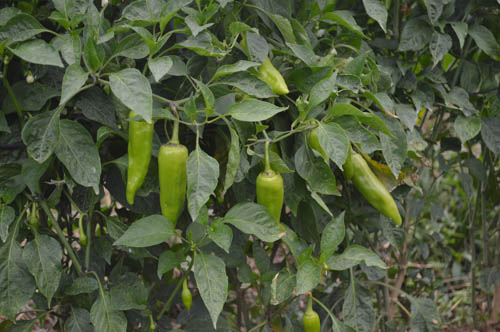ChiliPepper: (345, 153, 403, 225), (124, 110, 152, 208), (160, 143, 187, 228), (255, 175, 286, 240)
